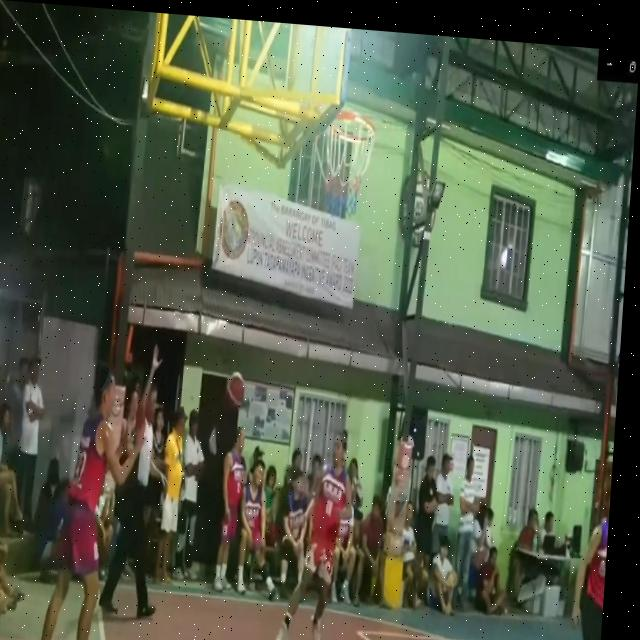basketball: (223, 368, 246, 416)
hoop: (316, 99, 379, 226)
